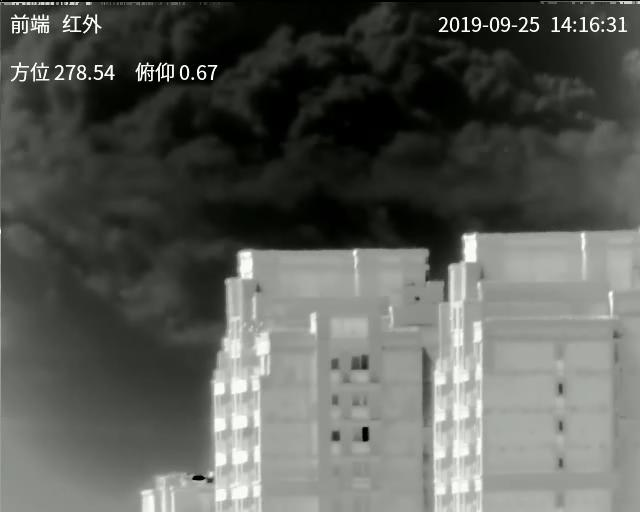uav: (242, 318, 267, 339)
